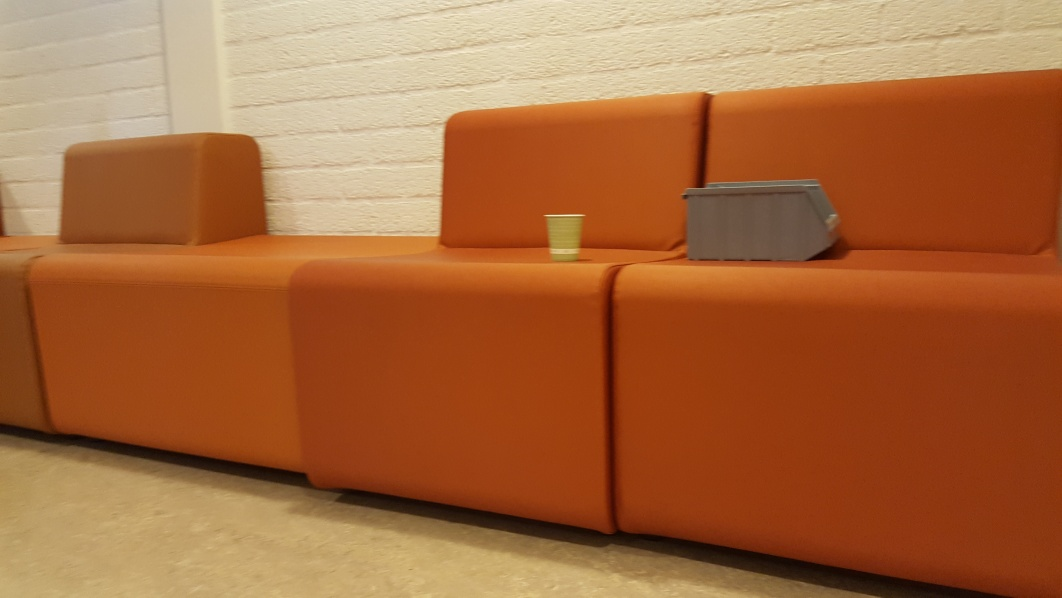cup: (541, 212, 587, 260)
tray: (680, 178, 842, 265)
